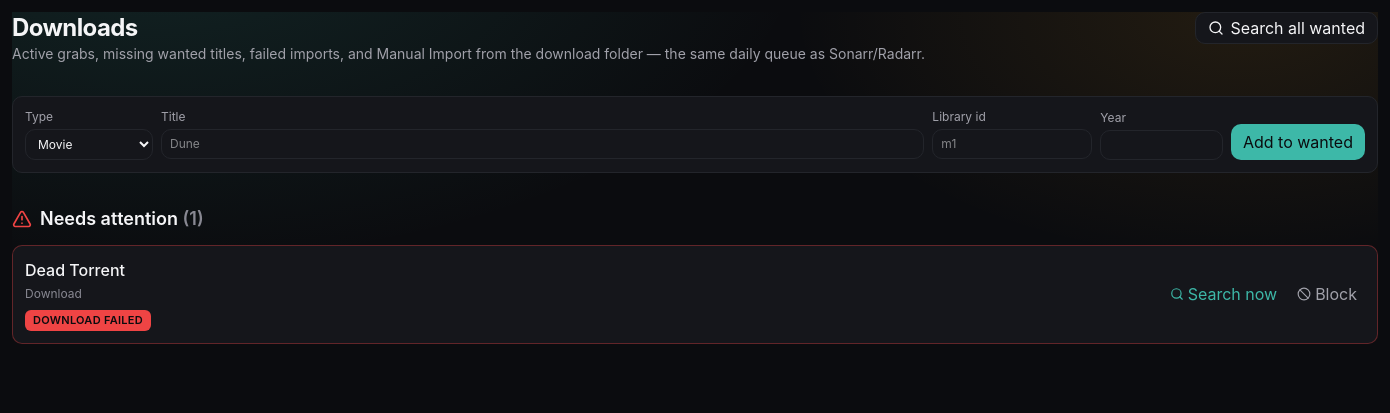
Activity page › searches again for a failed grab
The image size is (1390, 413).
Expected: the element with test id "activity-attention" is shown, [12,205,1378,344]
Click the button "Search now": point(1223, 294) [1162,278,1285,310]
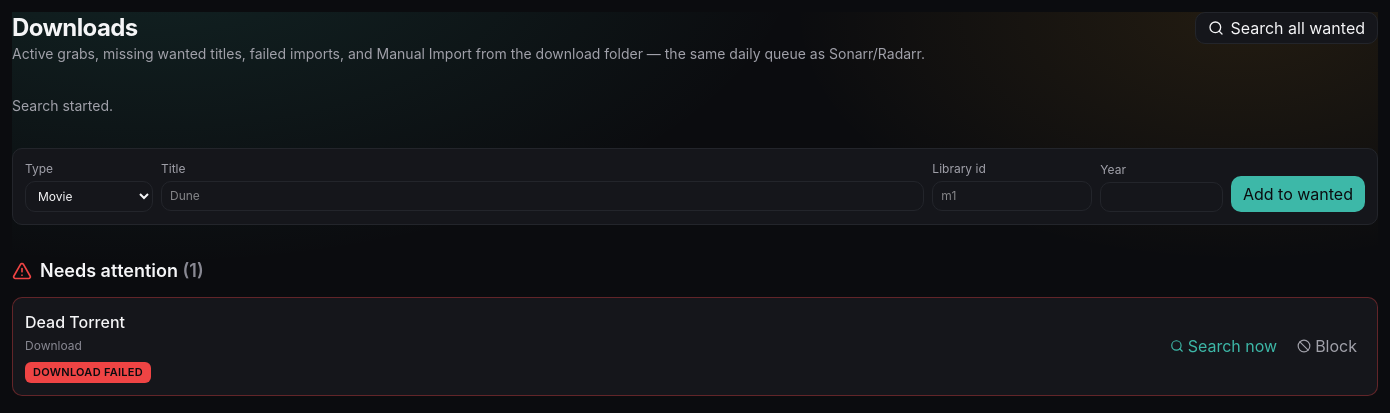
Result: the text with test id "activity-flash" shows "Search started" at [12,97,113,114]
